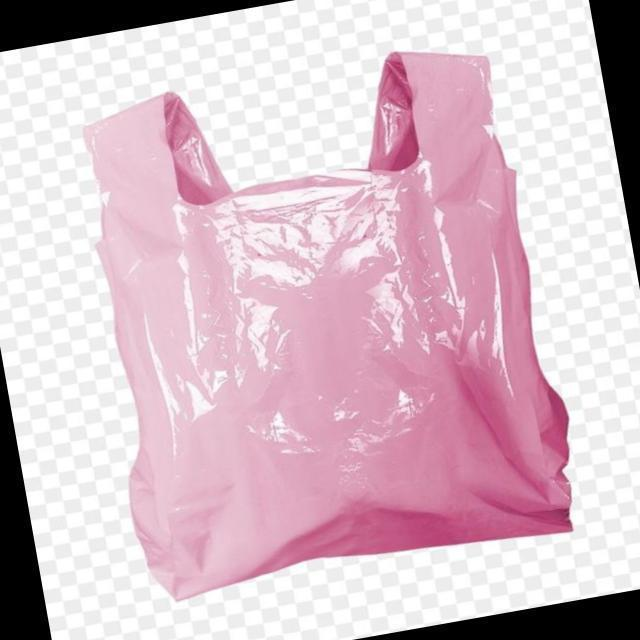KantongPlastik: (82, 49, 574, 601)
